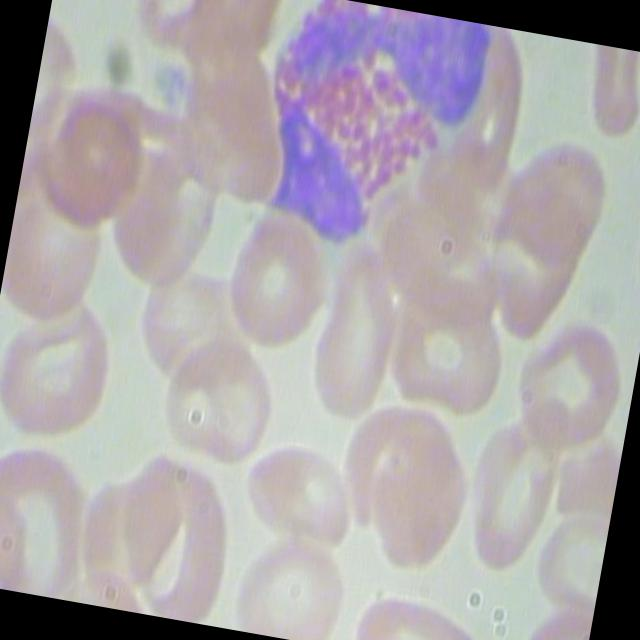Platelets: (141, 48, 199, 109)
RBC: (292, 232, 410, 428), (482, 120, 626, 279), (460, 384, 575, 582), (17, 82, 157, 244), (128, 444, 252, 626), (150, 316, 290, 473), (356, 420, 486, 579), (216, 199, 346, 358), (0, 285, 124, 446), (374, 287, 516, 421), (504, 313, 636, 449), (236, 426, 363, 554), (223, 530, 357, 640), (136, 256, 242, 380), (121, 0, 223, 63)
WBC: (242, 0, 501, 270)
